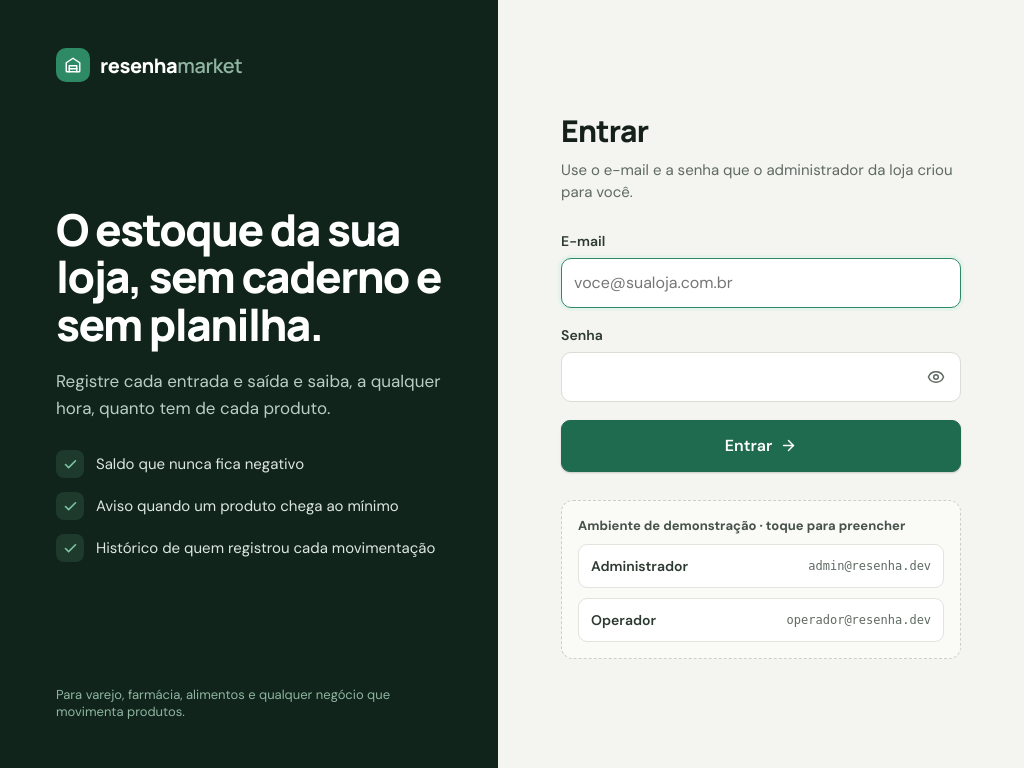
Test: LoginPage › preenche a conta de demonstração e mostra o erro da API
Click the button "Operador operador@resenha.dev": (624,620) [578,598,944,642]
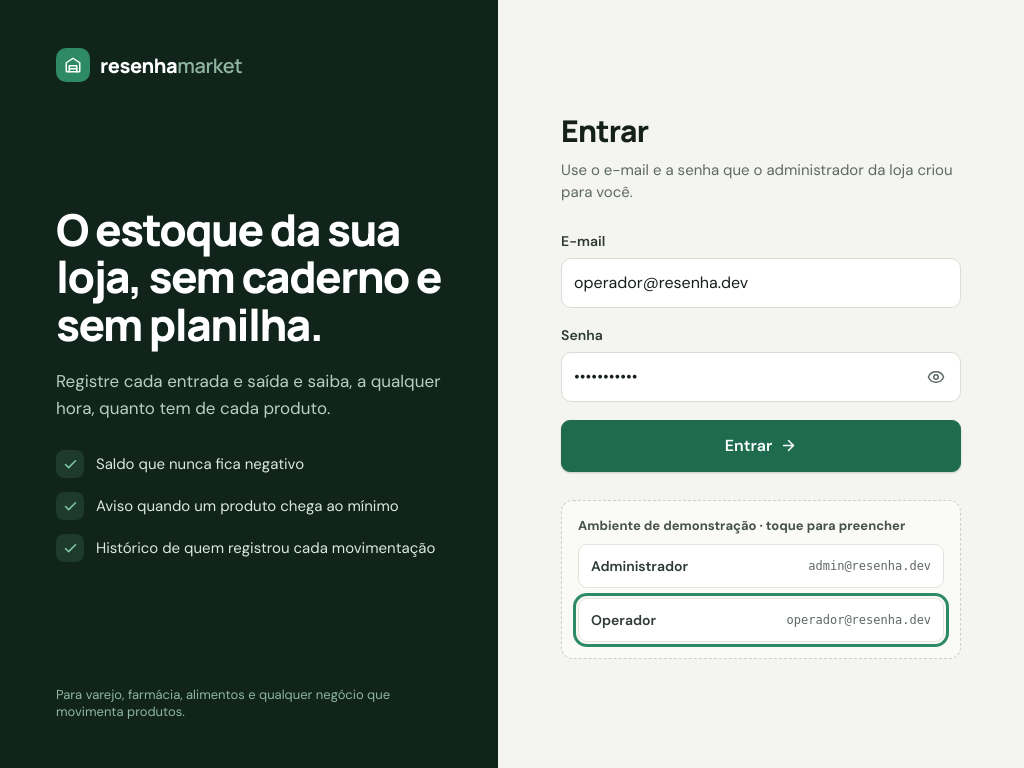
Expected: the field labelled "E-mail" holds "operador@resenha.dev", [561,258,961,308]
Click the button "Entrar": (761,446) [561,420,961,472]
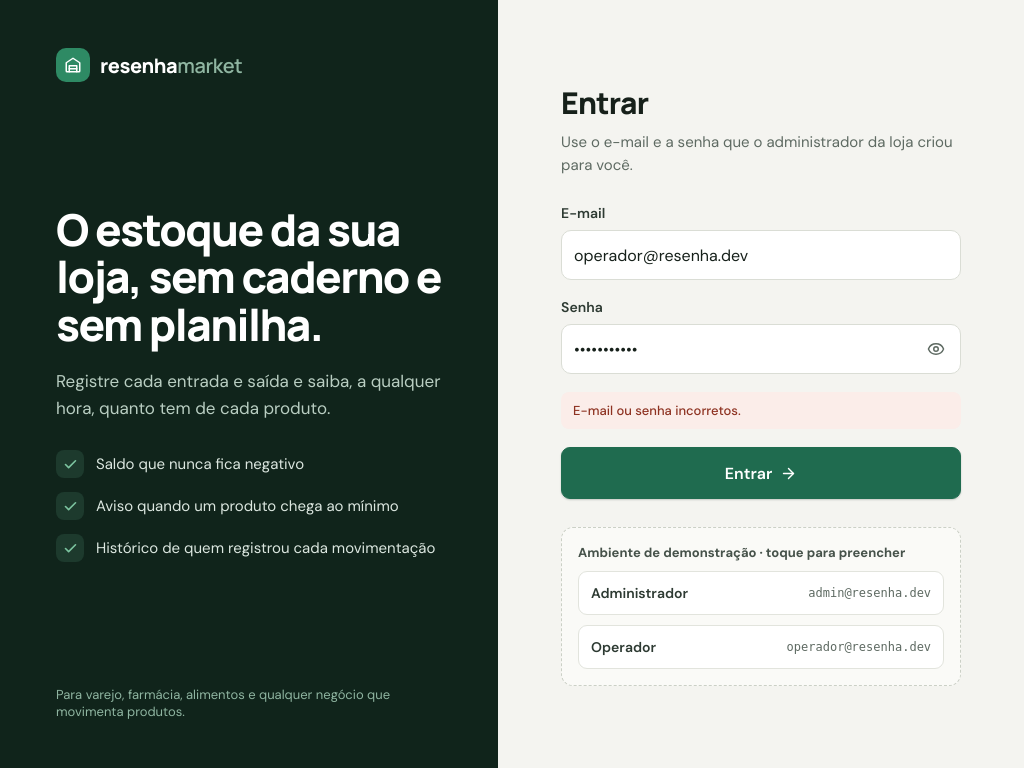
Expected: the message reads "E-mail ou senha incorretos.", [573,402,741,419]
